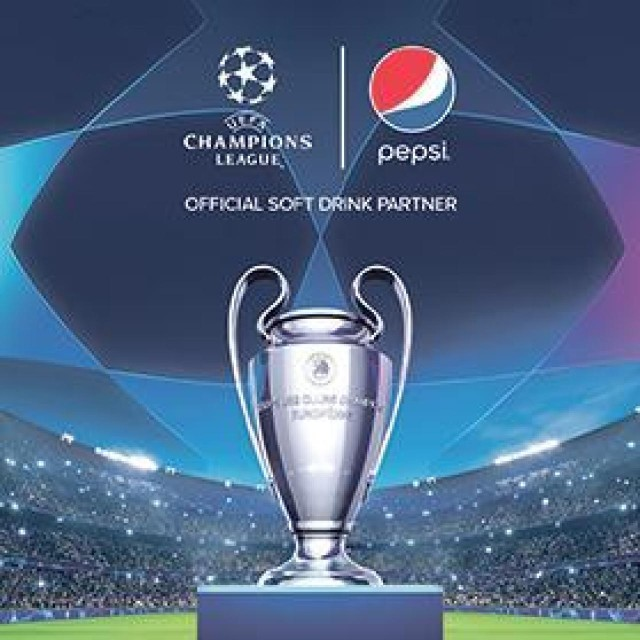pepsi: (362, 37, 473, 139)
